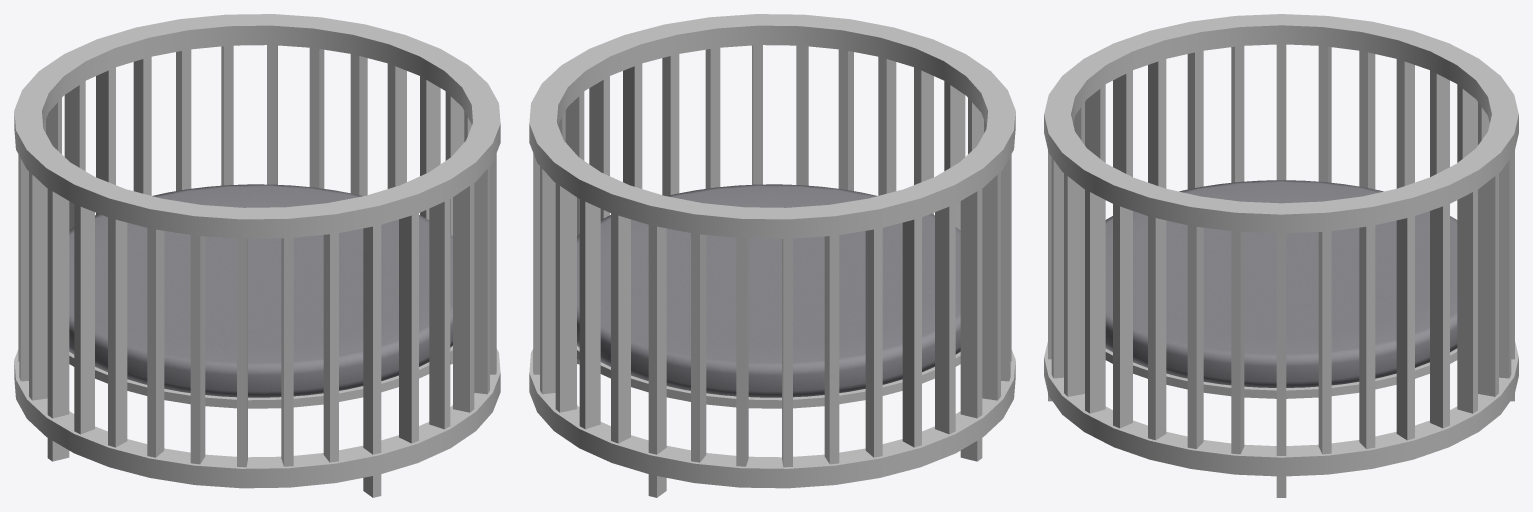
File: Bed38.fbx
3 views of the same model, side by side, from view 1: azimuth 30°, elevation 25°; view 2: azimuth 150°, elevation 25°; view 3: azimuth 270°, elevation 25° (orthographic). The views are drawn at different scales.
Parts seen in each view (by area): view 1: BedFrame38, Mattress38; view 2: BedFrame38, Mattress38; view 3: BedFrame38, Mattress38.
Boxes of the visible parts, <box> form: BedFrame38: <box>14,14,500,497</box>; Mattress38: <box>69,184,452,397</box>; BedFrame38: <box>529,14,1015,497</box>; Mattress38: <box>577,184,960,397</box>; BedFrame38: <box>1044,14,1518,497</box>; Mattress38: <box>1105,180,1457,387</box>.
Bounding box in the file's own units: 160 × 106 × 160.
